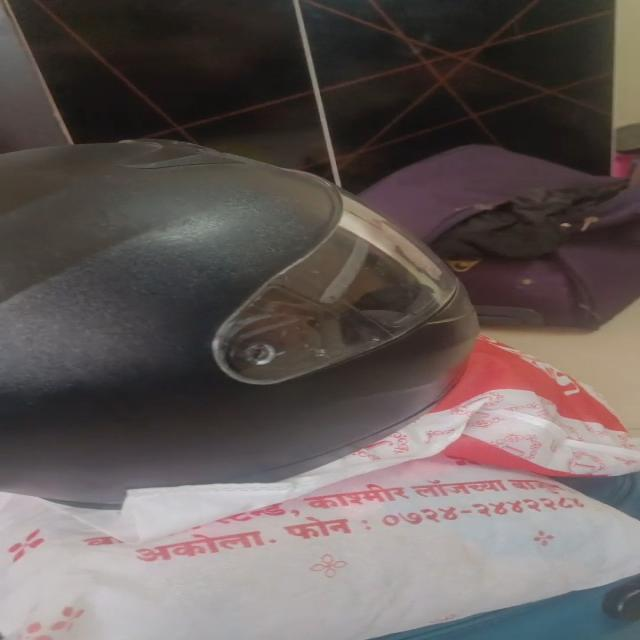Helmet: (2, 140, 478, 506)
